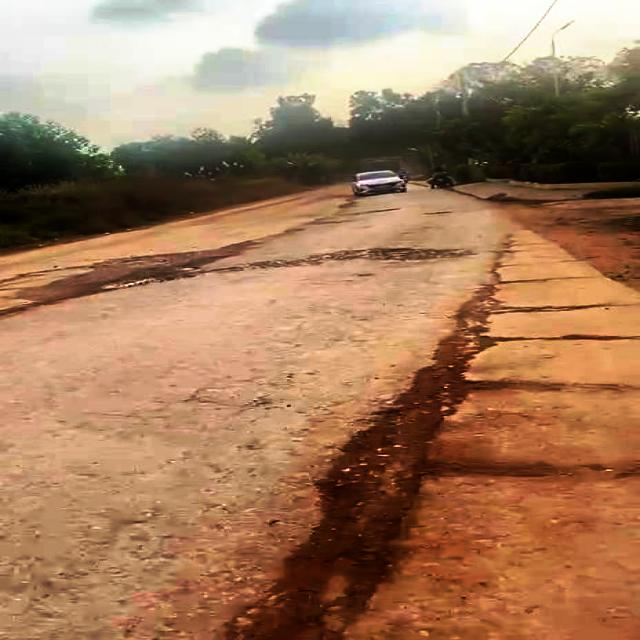pothole: (321, 362, 491, 515)
